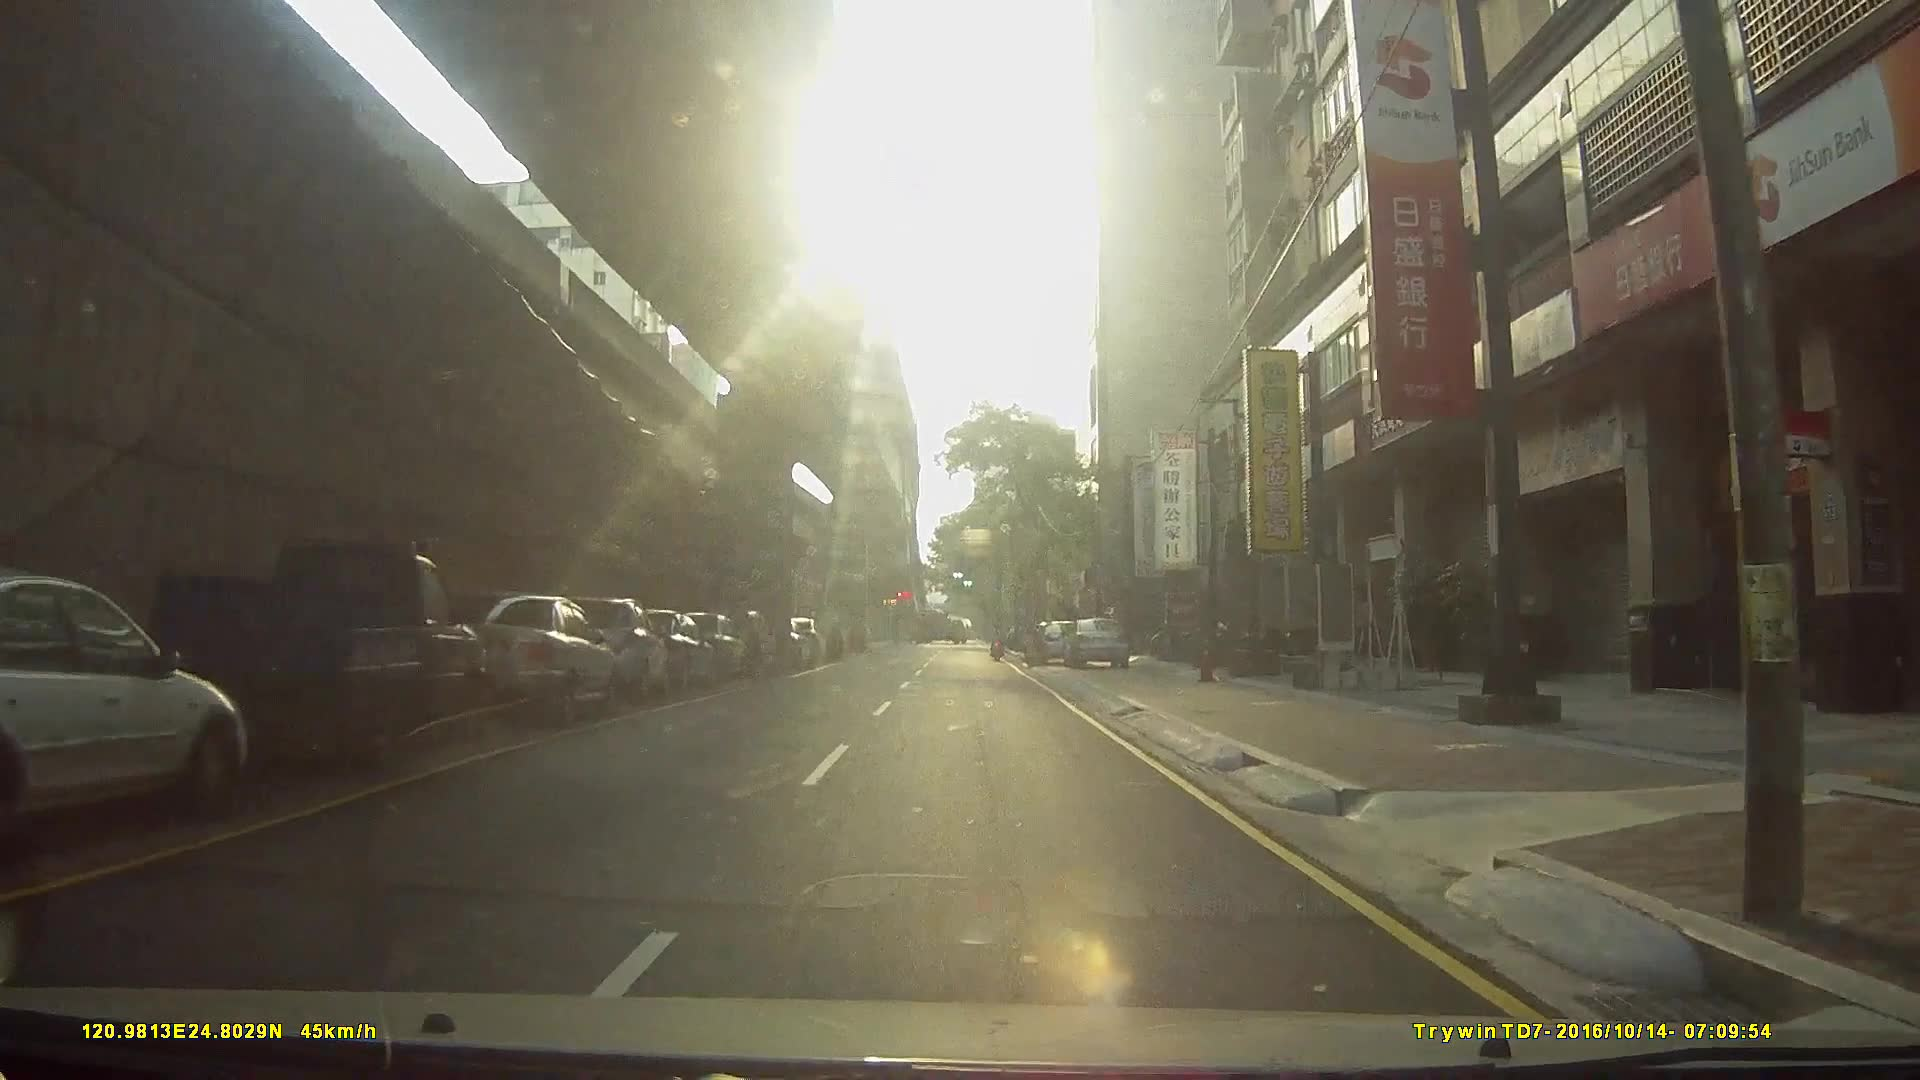vehicle: (149, 535, 488, 765), (0, 570, 247, 862), (439, 593, 618, 724), (549, 593, 673, 704), (597, 612, 729, 700), (659, 620, 794, 670), (1059, 615, 1131, 667)
